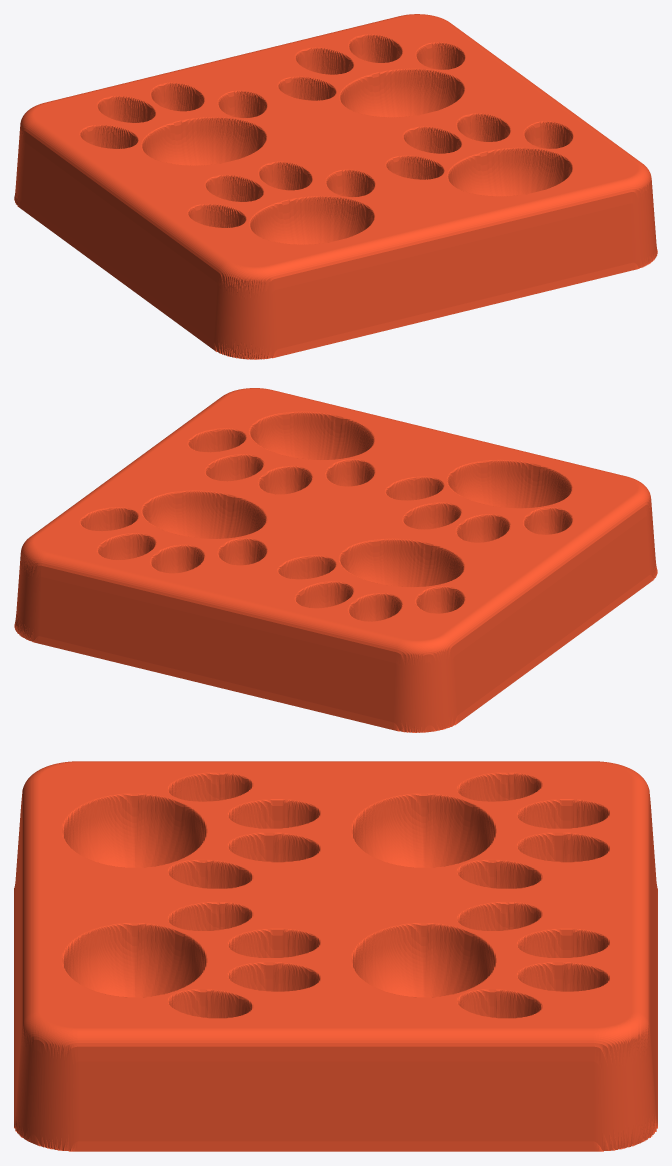
The model's file is mold.glb.
The picture shows the model from 3 angles, top to bottom: view 1: azimuth 30°, elevation 25°; view 2: azimuth 150°, elevation 25°; view 3: azimuth 270°, elevation 25°; orthographic projection. The views are drawn at different scales.
Visible parts, largest first — view 1: geometry_0; view 2: geometry_0; view 3: geometry_0.
Boxes of the visible parts, x1,y1,x2,y2 form: geometry_0: (14, 14, 657, 359); geometry_0: (14, 388, 657, 732); geometry_0: (14, 761, 657, 1151).
Size of the model in its own units: 0.0952 by 0.0175 by 0.0904.
